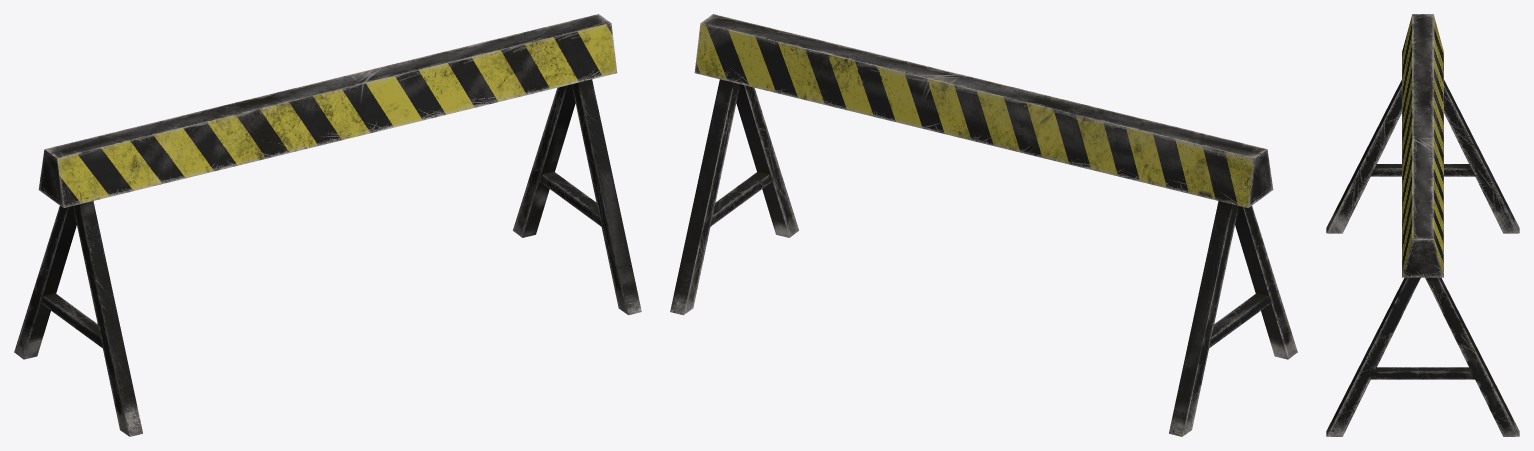
Rendered from SafetyFence.glb.
3 views of the same model, side by side, from view 1: azimuth 30°, elevation 25°; view 2: azimuth 150°, elevation 25°; view 3: azimuth 270°, elevation 25° (orthographic). The views are drawn at different scales.
Bounding box in the file's own units: 260 × 110 × 94.14.
Materials: 1 (1 with a texture image).
